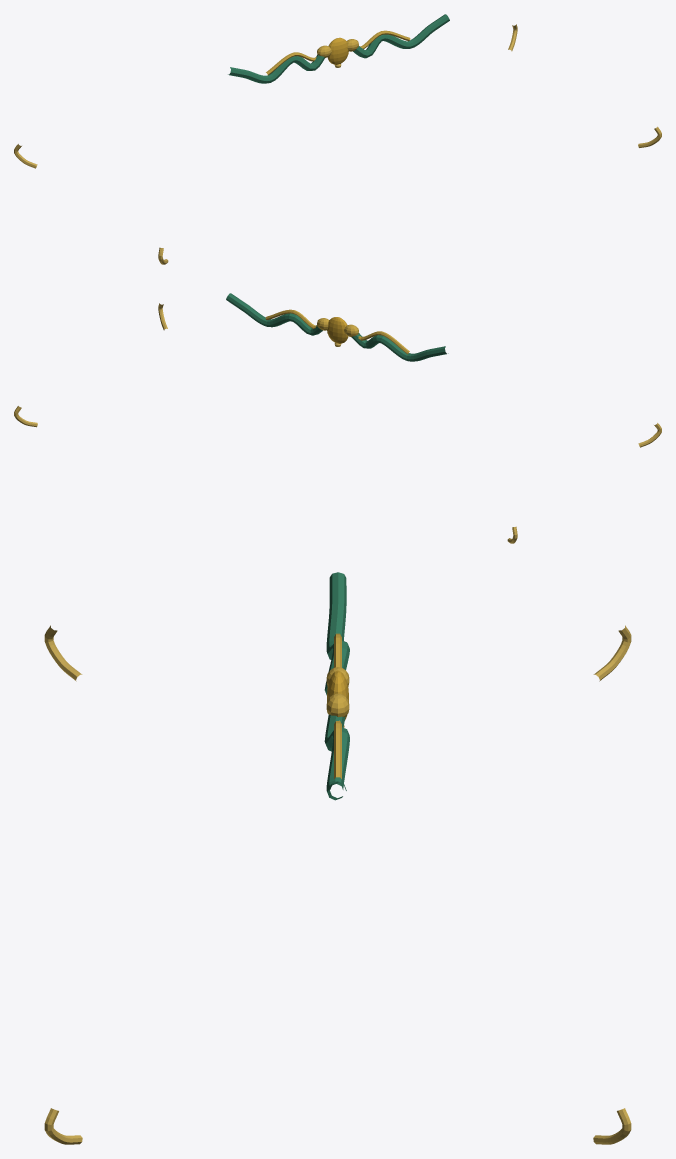
Rendered from tudam-hero.glb.
3 renders of one model, top to bottom at view 1: azimuth 30°, elevation 25°; view 2: azimuth 150°, elevation 25°; view 3: azimuth 270°, elevation 25°, orthographic. The views are drawn at different scales.
Visible parts, largest first — view 1: tudam_hero_ornaments; view 2: tudam_hero_ornaments; view 3: tudam_hero_ornaments.
Boxes of the visible parts, bbox=[...] form: tudam_hero_ornaments: bbox=[14, 14, 661, 264]; tudam_hero_ornaments: bbox=[14, 293, 661, 543]; tudam_hero_ornaments: bbox=[44, 572, 631, 1144].
Size of the model in its own units: 20.2 by 4.6 by 10.2.
